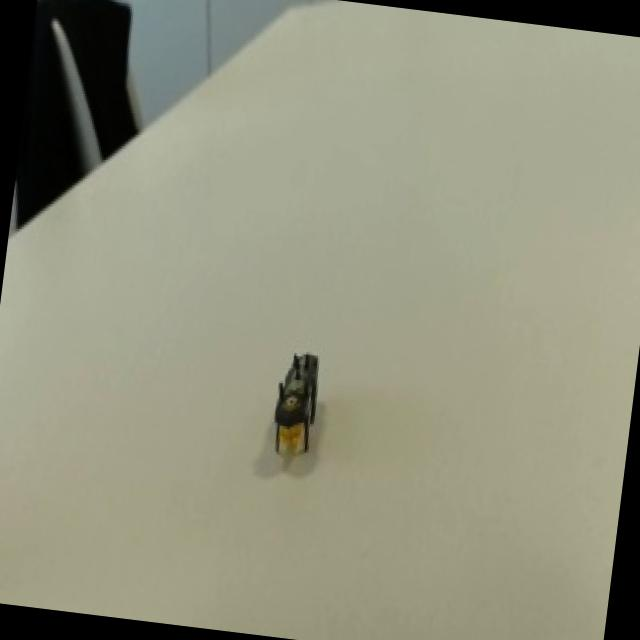6_NanoBug_GrisOscuro: (236, 324, 366, 491)
